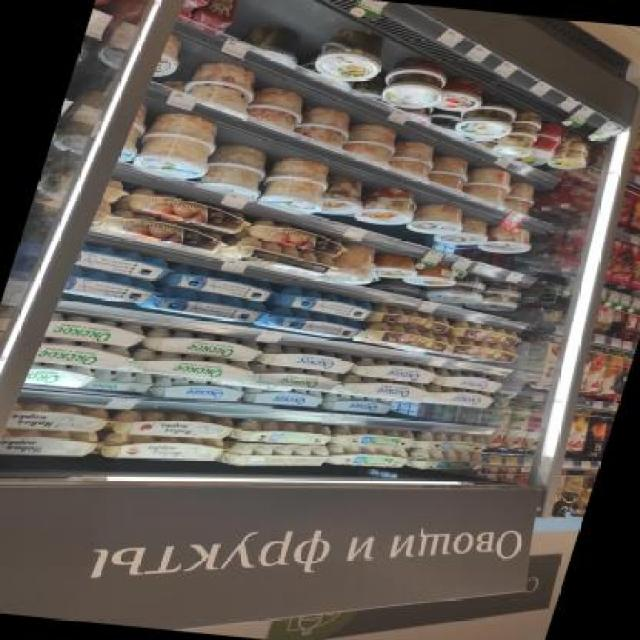Egg: (305, 26, 397, 83), (100, 430, 226, 470), (134, 286, 266, 323), (110, 407, 236, 444), (139, 327, 266, 362), (126, 349, 256, 383), (0, 424, 105, 465), (260, 284, 378, 319), (158, 269, 280, 302), (71, 244, 178, 281), (182, 59, 264, 107), (6, 401, 114, 437), (255, 305, 363, 341), (43, 313, 149, 349), (133, 136, 214, 181), (230, 417, 335, 451), (31, 337, 135, 371), (60, 272, 162, 306), (256, 343, 359, 375), (351, 186, 424, 228), (373, 73, 449, 112), (355, 324, 453, 354), (253, 177, 329, 215), (446, 105, 522, 143), (150, 377, 248, 406), (363, 305, 454, 335), (351, 357, 444, 386), (333, 375, 429, 403), (244, 86, 308, 128), (242, 364, 341, 391), (194, 163, 266, 200), (295, 105, 356, 147), (324, 442, 410, 471), (323, 243, 380, 285), (342, 122, 400, 163), (407, 447, 488, 476), (444, 337, 525, 366), (331, 424, 417, 451), (310, 175, 366, 216), (448, 321, 527, 347), (265, 154, 335, 183), (204, 143, 274, 172), (412, 430, 493, 455), (241, 385, 324, 409), (85, 368, 157, 395), (462, 168, 516, 204), (426, 155, 480, 191), (388, 140, 442, 176), (422, 384, 496, 410), (435, 78, 488, 114), (430, 369, 506, 394), (410, 204, 466, 236), (24, 362, 87, 388), (319, 393, 393, 415), (499, 181, 544, 217), (480, 227, 535, 256), (438, 218, 493, 247), (368, 254, 420, 280), (426, 283, 482, 305), (409, 265, 460, 289), (471, 292, 522, 314)
